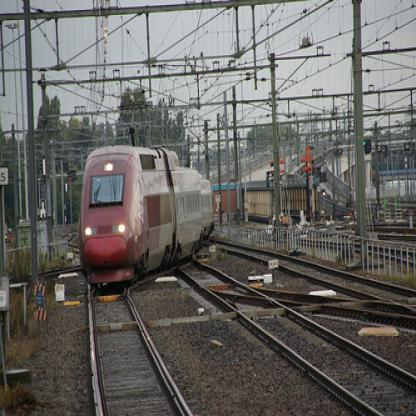train: (76, 142, 216, 292)
